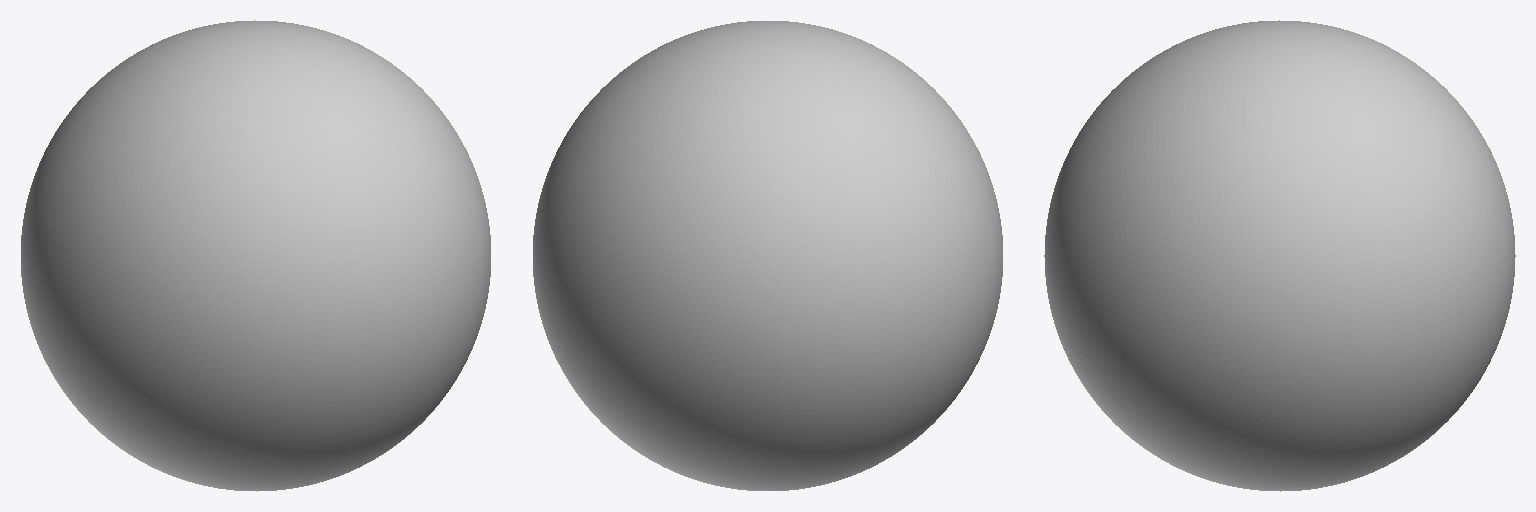
File: sol.obj
3 views of the same model, side by side, from view 1: azimuth 30°, elevation 25°; view 2: azimuth 150°, elevation 25°; view 3: azimuth 270°, elevation 25° (orthographic).
Parts seen in each view (by area): view 1: Sun; view 2: Sun; view 3: Sun.
Part boxes in pixels (x1,y1,x2,y2): Sun: (21,20,490,491); Sun: (533,21,1002,490); Sun: (1044,20,1515,491).
Bounding box in the file's own units: 61 × 61 × 61.